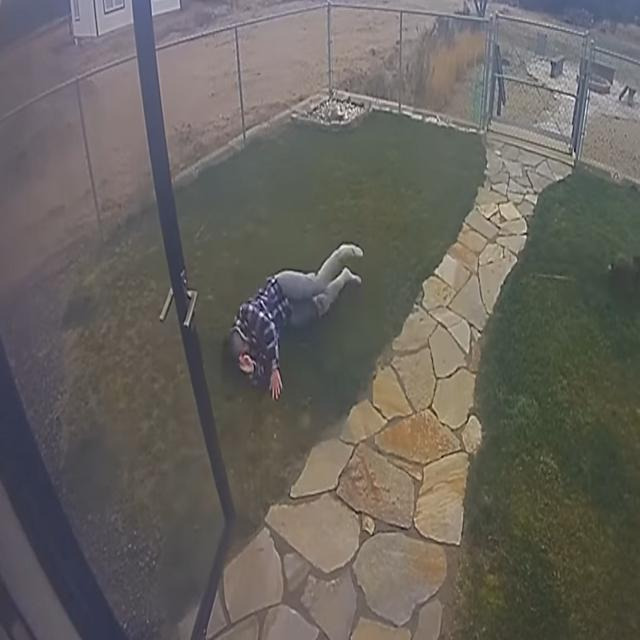fallen: (224, 243, 363, 399)
